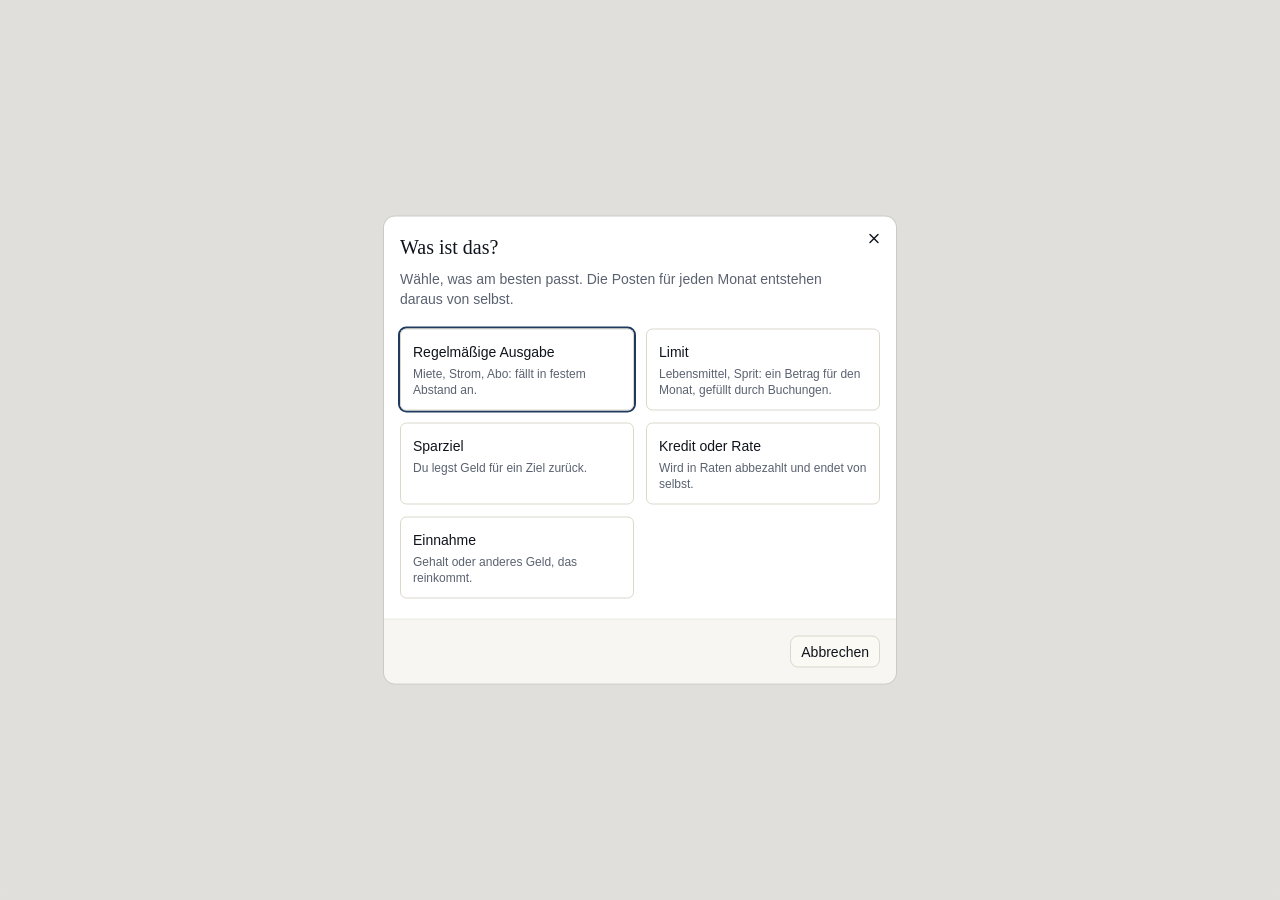
Test: CommitmentDialog › income names the account in the sentence
Click the button "Einnahme Gehalt oder anderes Geld, das reinkommt.".
click(517, 558)  # box [400,516,634,598]
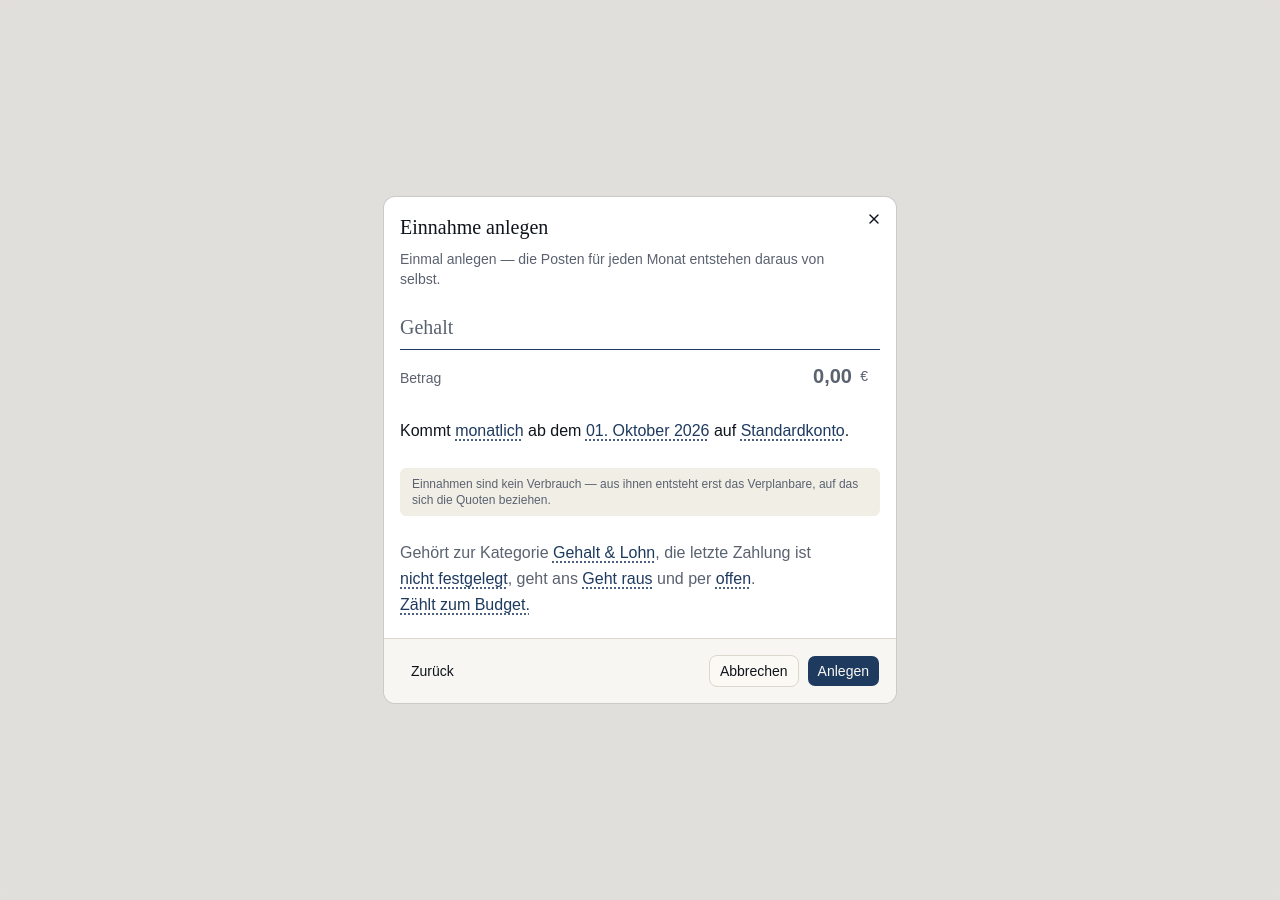
Check: the text "Kommt monatlich ab dem 01. Oktober 2026 auf Standardkonto ." is shown, box [400,418,880,444]
Check: the button "Standardkonto" is shown, box [739,418,847,444]
